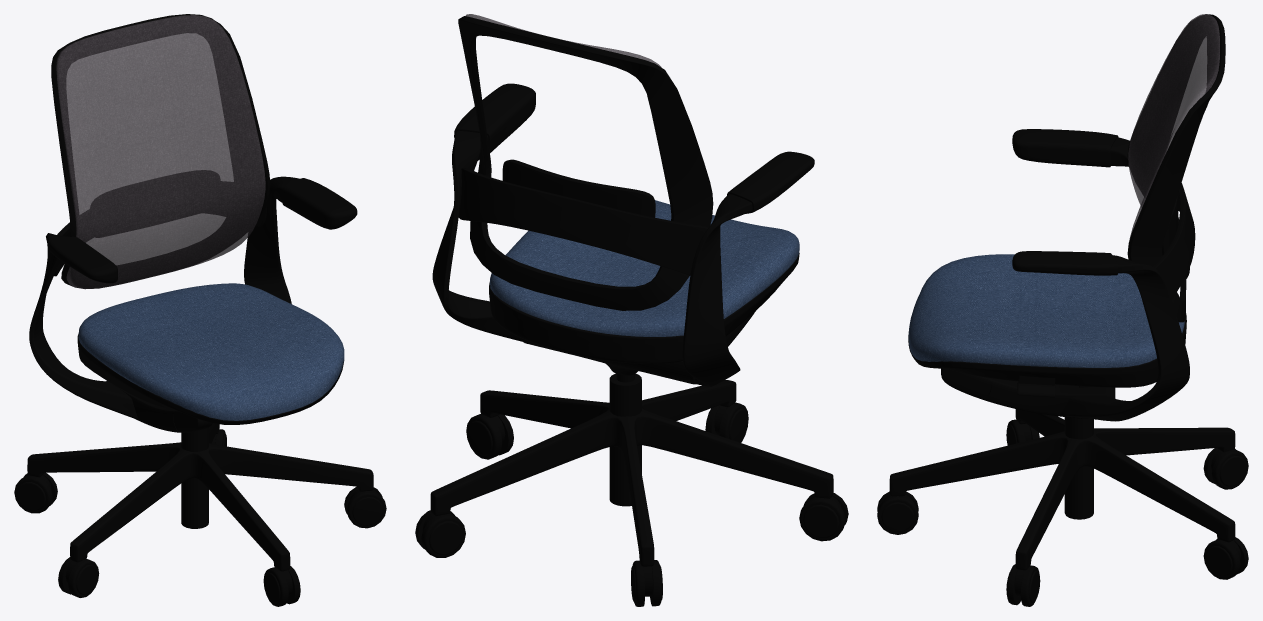
Rendered from office_chair_gaming_chair.glb.
The picture shows the model from 3 angles, left to right: view 1: azimuth 30°, elevation 25°; view 2: azimuth 150°, elevation 25°; view 3: azimuth 270°, elevation 25°; orthographic projection. The views are drawn at different scales.
Visible parts, largest first — view 1: Oliver_mesh_chair_Plane.002_1, Oliver_mesh_chair_Plane.001_0; view 2: Oliver_mesh_chair_Plane.002_1; view 3: Oliver_mesh_chair_Plane.002_1, Oliver_mesh_chair_Plane.001_0.
Boxes of the visible parts, x1,y1,x2,y2 form: Oliver_mesh_chair_Plane.002_1: (14,14,386,606); Oliver_mesh_chair_Plane.001_0: (56,15,265,288); Oliver_mesh_chair_Plane.002_1: (415,16,848,606); Oliver_mesh_chair_Plane.002_1: (877,14,1248,606); Oliver_mesh_chair_Plane.001_0: (1128,14,1219,240).
Bounding box in the file's own units: 0.6647 × 0.911 × 0.6328.
Materials: 2 (2 with a texture image).
